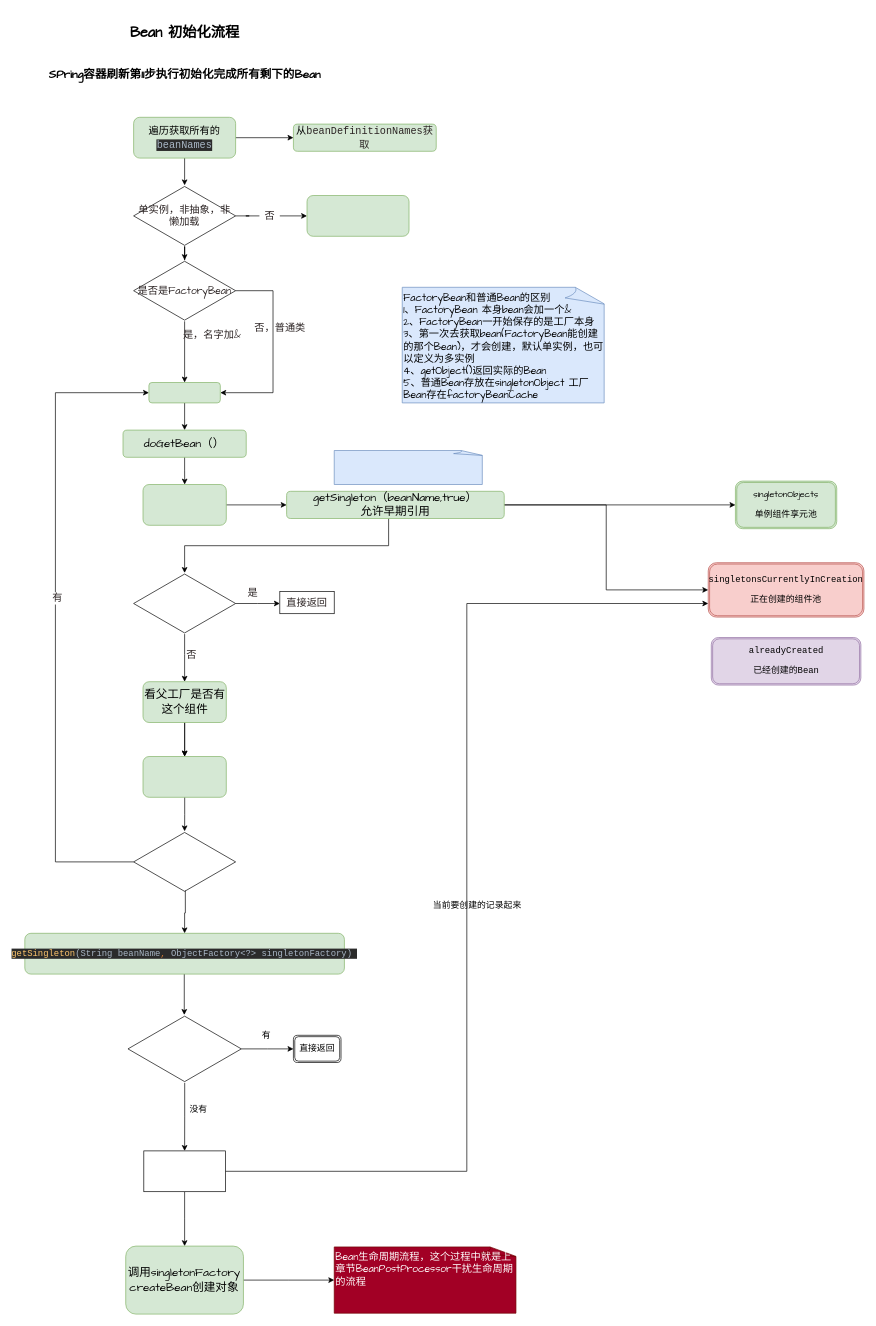
Some shapes in this 876 by 1326 pixel diagram are drawn without their labels. Each missing label, with the box of its shape:
1、先看单例池有没有 2、再看这个Bean是否正在创建: (334, 450, 484, 485)
getBean: (148, 382, 220, 403)
getSingleton: (142, 484, 226, 525)
创建之前: (143, 1150, 225, 1192)
是否能获取到Bean: (133, 572, 236, 634)
有没有依赖的组件: (133, 831, 236, 893)
检查单例池中是否有？ singletonObjects: (127, 1014, 241, 1083)
获取当前Bean依赖的组件: (142, 756, 226, 797)
